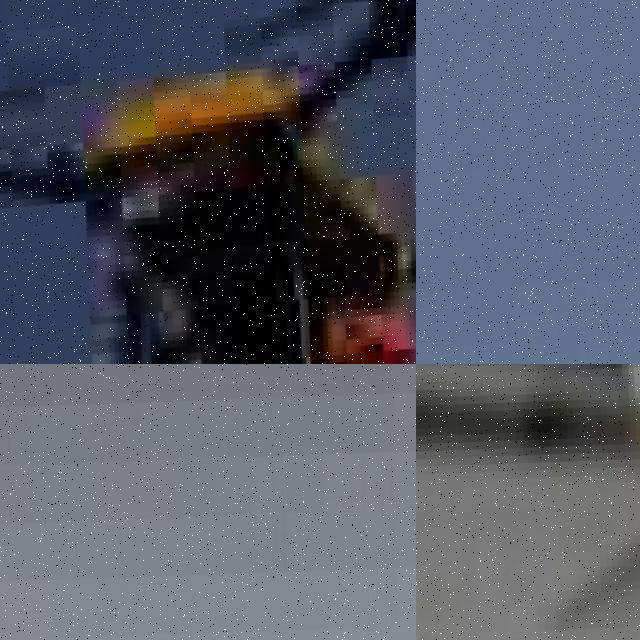drone: (0, 0, 416, 364)
